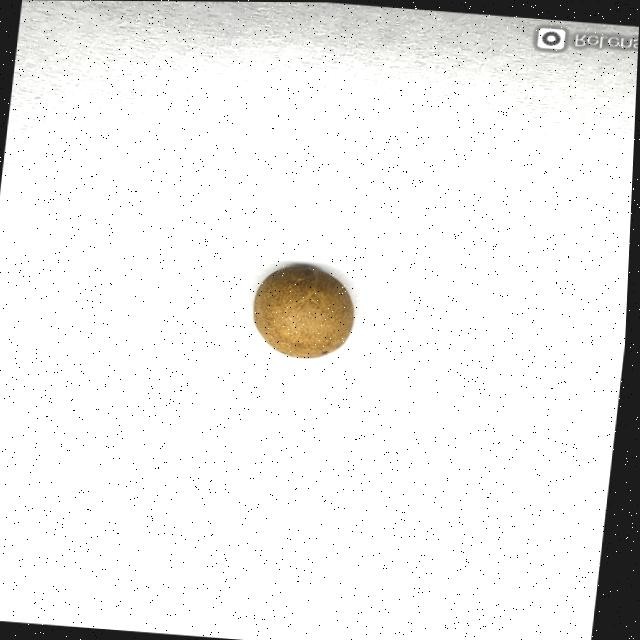Quaker: (249, 261, 362, 363)
